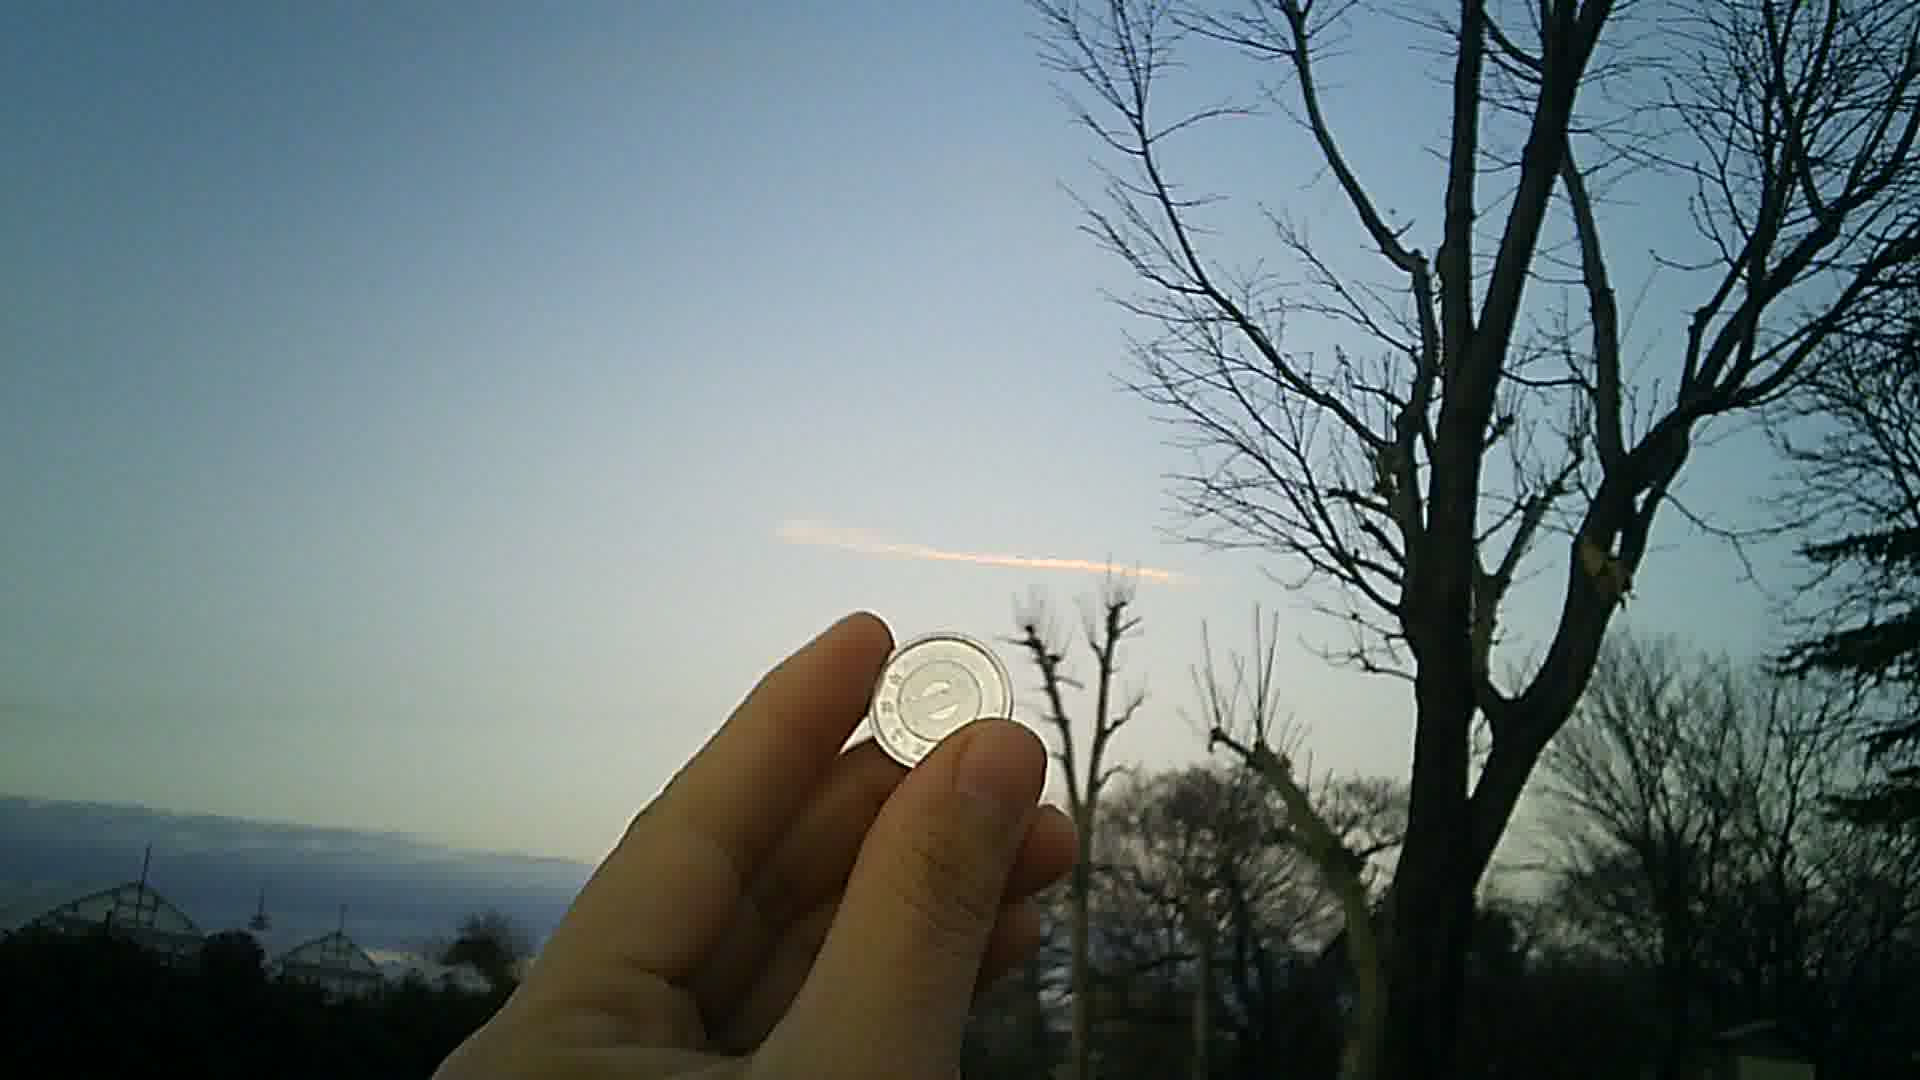1 Yen: (858, 618, 1025, 785)
